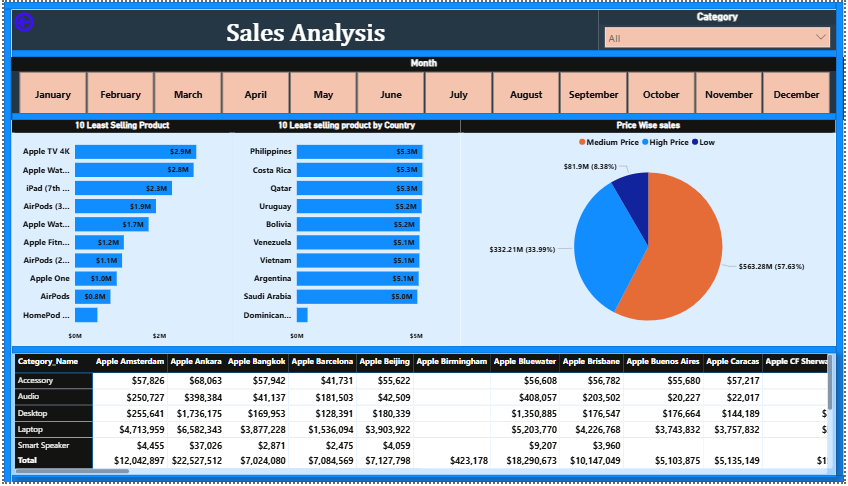

What the dashboard file says about the page in this screenshot:
{"tool":"powerbi","page":{"name":"Sales Analysis","canvas":[1400,800],"ordinal":1},"visuals":[{"type":"pieChart","title":"Price Wise sales","fields":{"Category":["Products.PriceSegment"],"Y":["Sales.TotalSales"]},"box":[761.4,197.1,624.3,377.1],"z":0},{"type":"textbox","box":[13.3,13.3,978.3,66.7],"z":1000},{"type":"slicer","title":"Category","fields":{"Values":["Category.Category_Name"]},"box":[991.8,13.1,395.1,67.2],"z":2000},{"type":"slicer","title":"Month","fields":{"Values":["Datetable.Date.Variation.Date Hierarchy.Month"]},"box":[0,91.7,1400,105],"z":3000},{"type":"shape","box":[13.3,185,1373.3,11.7],"z":5000},{"type":"shape","box":[13.3,80,1373.3,11.7],"z":6000},{"type":"shape","box":[13.3,788.3,1386.7,11.7],"z":7000},{"type":"shape","box":[0,0,1386.7,12],"z":8000},{"type":"shape","box":[1386.7,0,12,788.3],"z":9000},{"type":"shape","box":[0,11.7,12,788.3],"z":10000},{"type":"pivotTable","fields":{"Rows":["Category.Category_Name"],"Columns":["Stores.Store_name"],"Values":["Sales.TotalSales"]},"box":[13.4,581,1373.1,210.4],"z":11000},{"type":"shape","box":[13.1,573.8,1373.8,12],"z":12000},{"type":"actionButton","box":[13.3,13.3,100,40],"z":13000},{"type":"clusteredBarChart","title":"10 Least Selling Product","fields":{"Category":["Products.Product_name"],"Y":["Sales.TotalSales"]},"box":[12.9,197.1,367.1,377.1],"z":13001},{"type":"clusteredBarChart","title":"10 Least selling product by Country","fields":{"Category":["Stores.Country"],"Y":["Sales.TotalSales"]},"box":[380,197.1,381.4,377.1],"z":13002}]}

Visuals, with their boxes in screenshot pixels (x1, y1, x2, y2), scaled from the page's 1400x800 canvas onto the 848x486 screenshot:
"Price Wise sales" pieChart: box(461, 120, 839, 349)
textbox: box(8, 8, 601, 49)
"Category" slicer: box(601, 8, 840, 49)
"Month" slicer: box(0, 56, 847, 119)
shape: box(8, 112, 840, 119)
shape: box(8, 49, 840, 56)
shape: box(8, 479, 847, 485)
shape: box(0, 0, 840, 7)
shape: box(840, 0, 847, 479)
shape: box(0, 7, 7, 485)
pivotTable - Category.Category_Name x Stores.Store_name: box(8, 353, 840, 481)
shape: box(8, 349, 840, 356)
actionButton: box(8, 8, 69, 32)
"10 Least Selling Product" clusteredBarChart: box(8, 120, 230, 349)
"10 Least selling product by Country" clusteredBarChart: box(230, 120, 461, 349)
